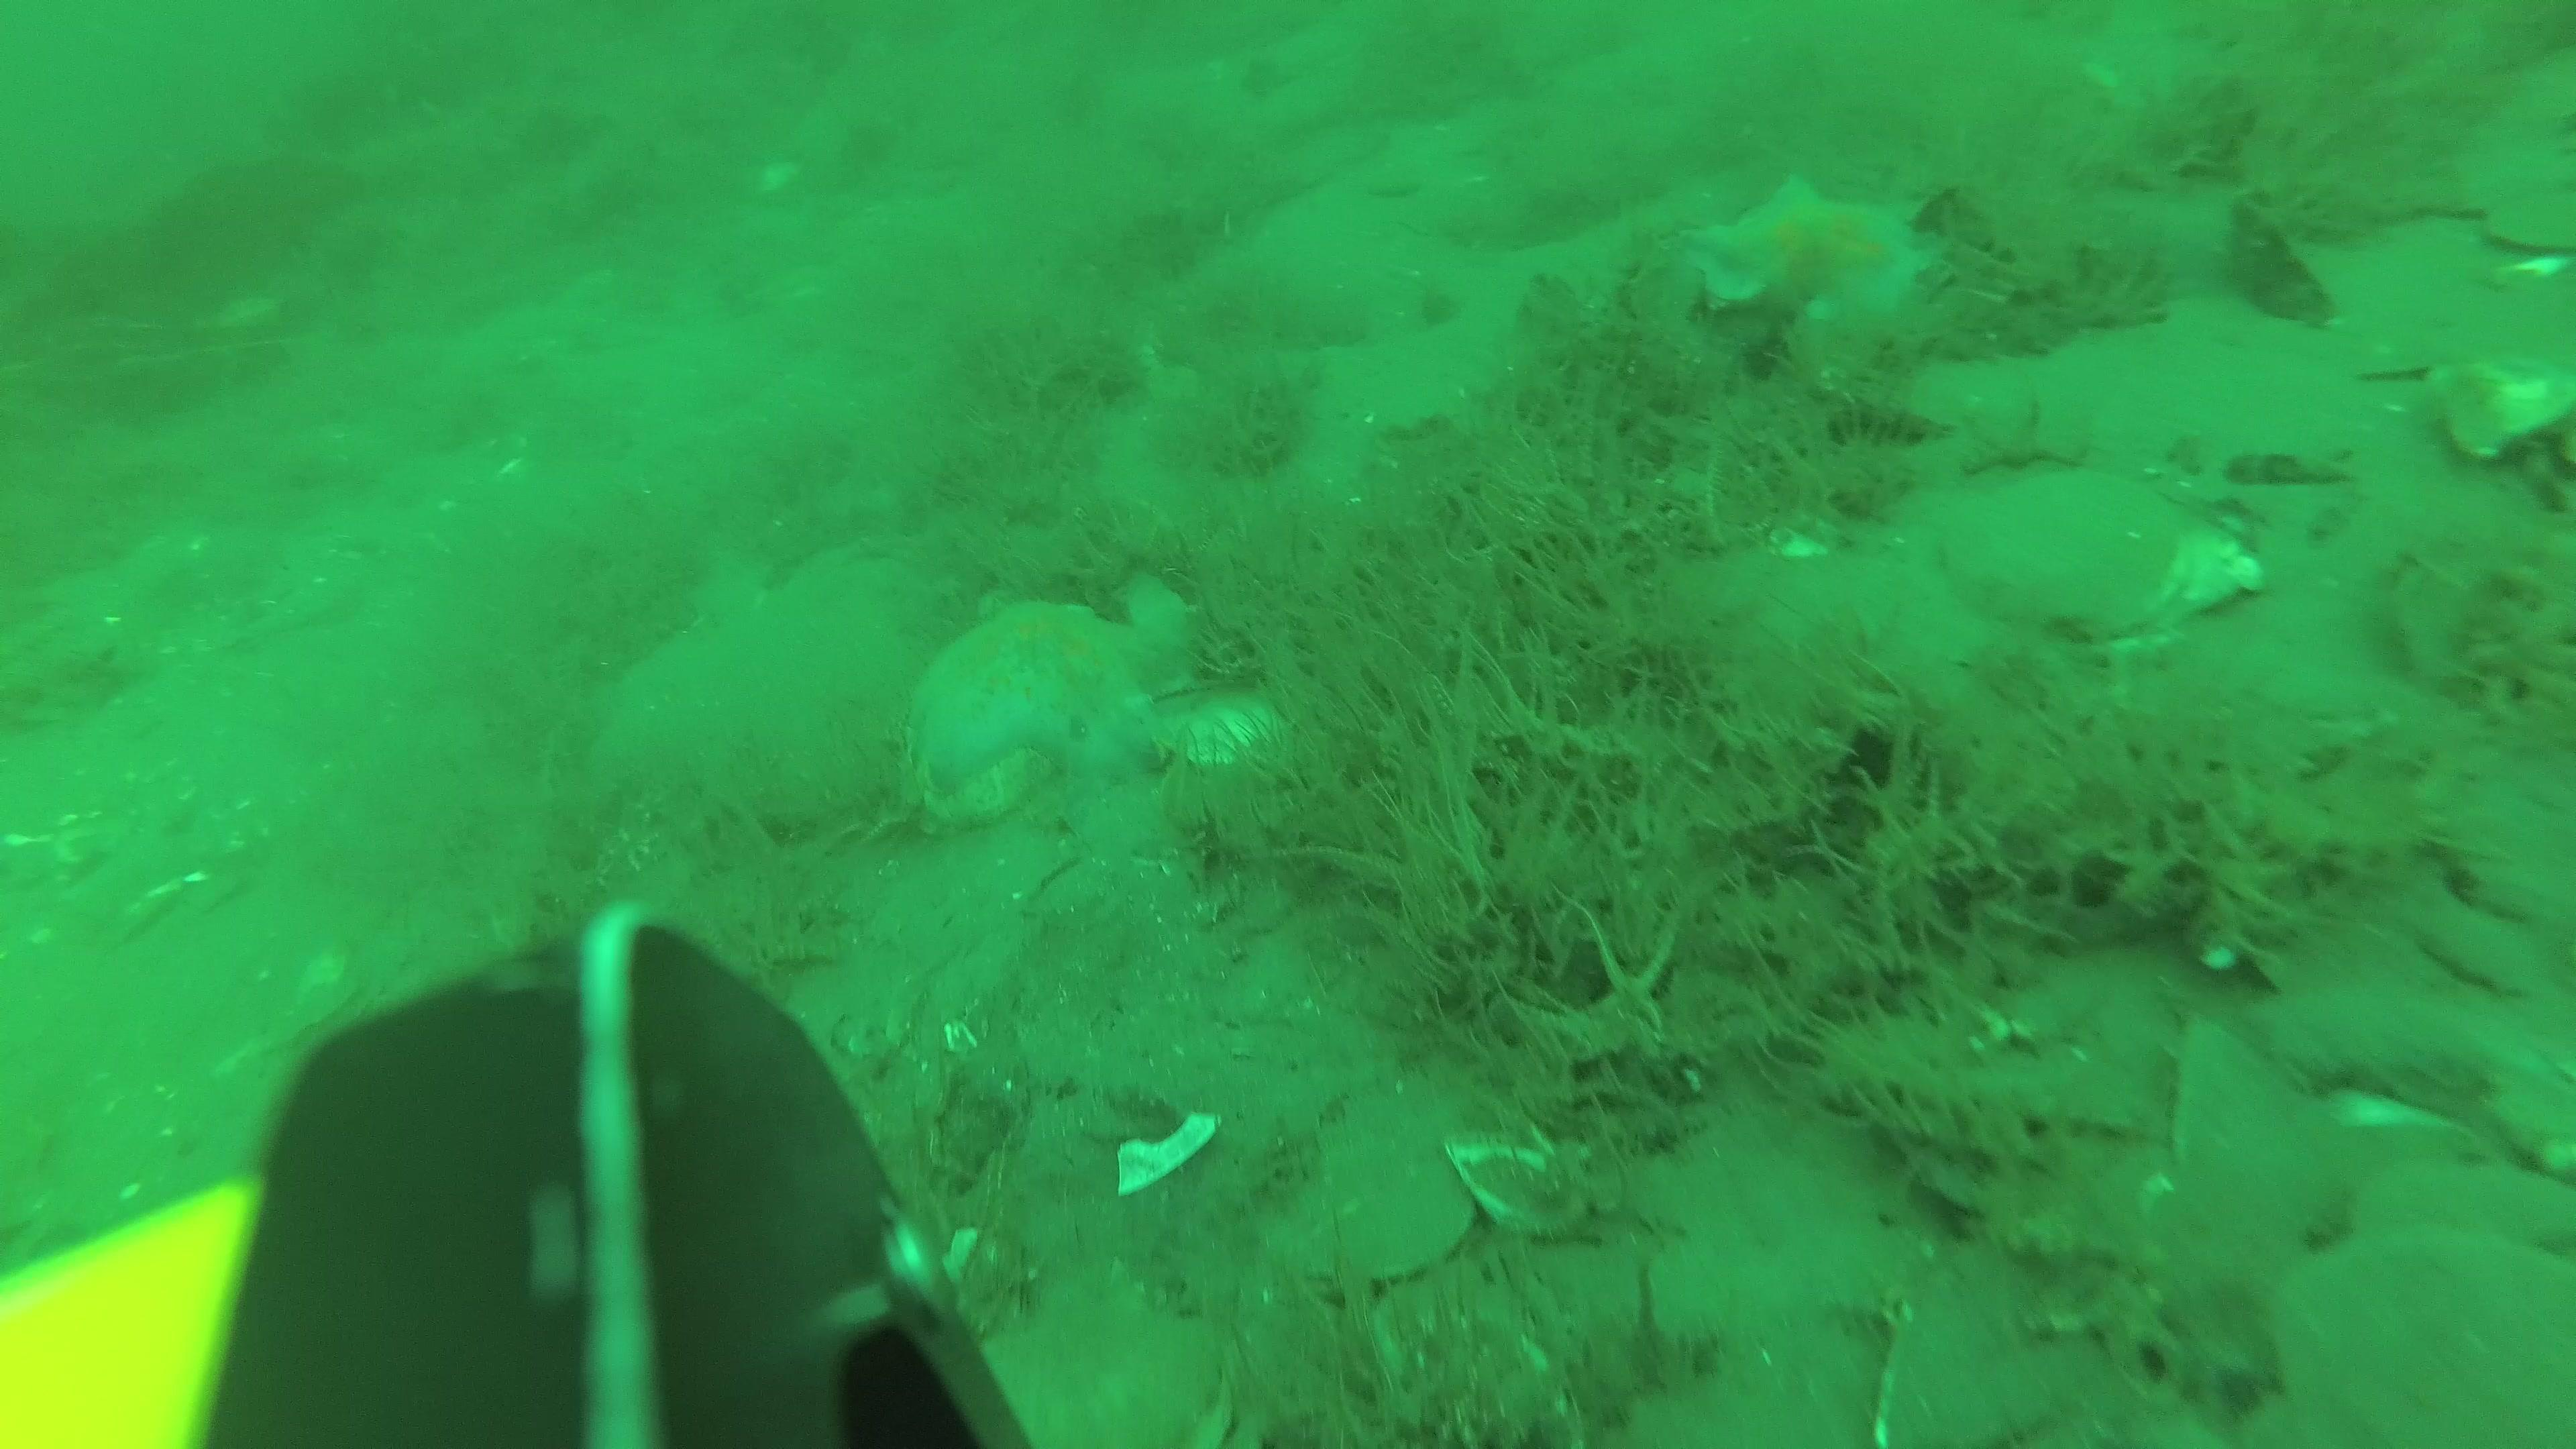scallop: (2250, 1235, 2576, 1449), (1934, 460, 2258, 633), (938, 1284, 1235, 1449)
starfish: (897, 593, 1185, 801), (1691, 172, 1928, 326)
